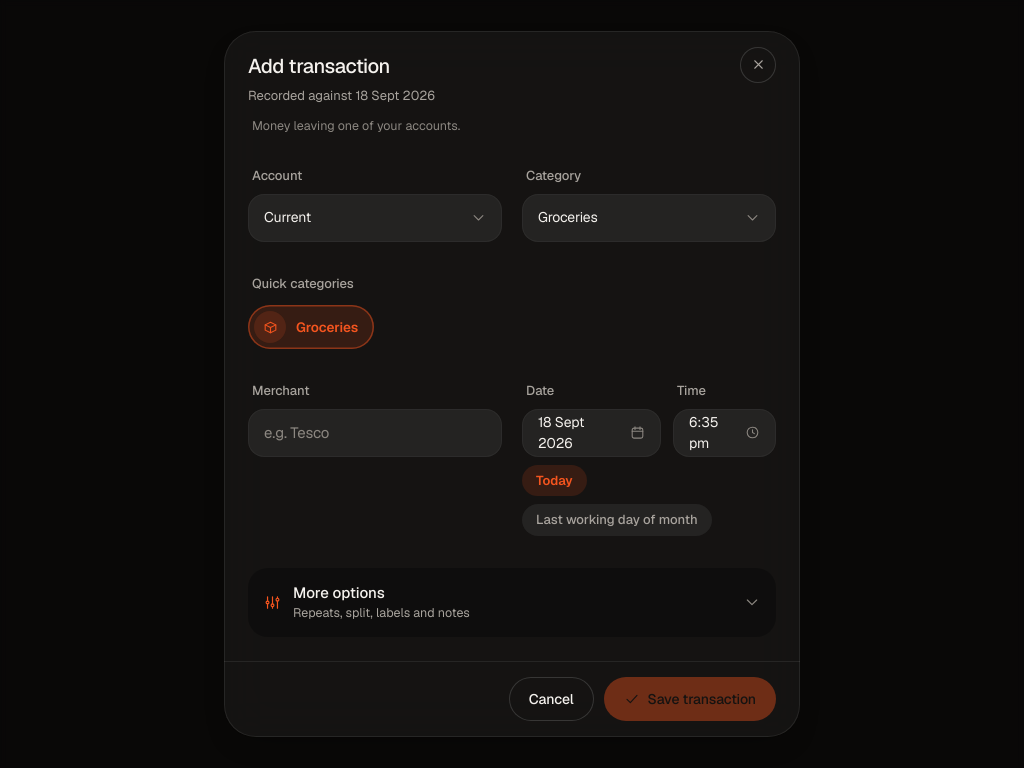
Test case: the month-end shortcut › explains itself as soon as it is chosen, not only when a weekend moves it
(page scrolled)
Click the button "Last working day of month": (617, 520) x1=522 y1=504 x2=712 y2=536
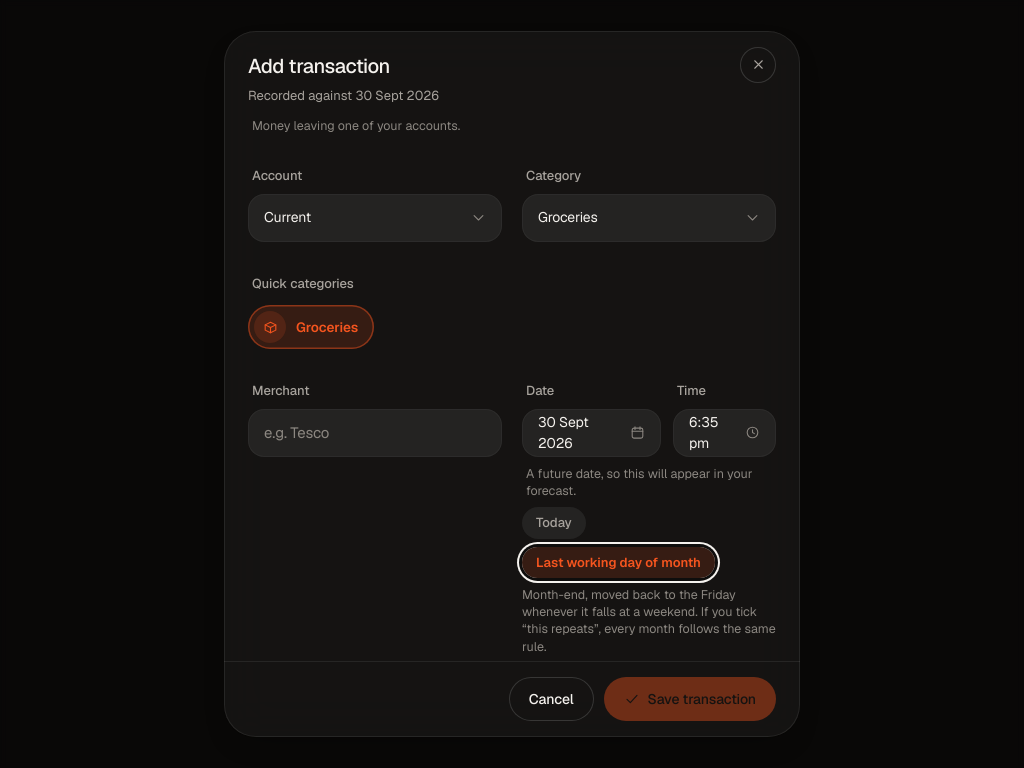
Now the text "every month follows the same rule" is shown, box x1=522 y1=586 x2=776 y2=655
